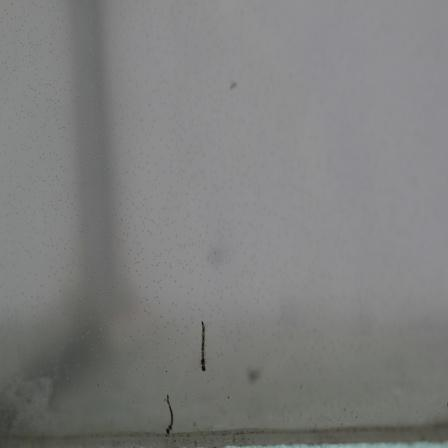Jentik-Nyamuk: (194, 315, 215, 379), (159, 390, 181, 437)
